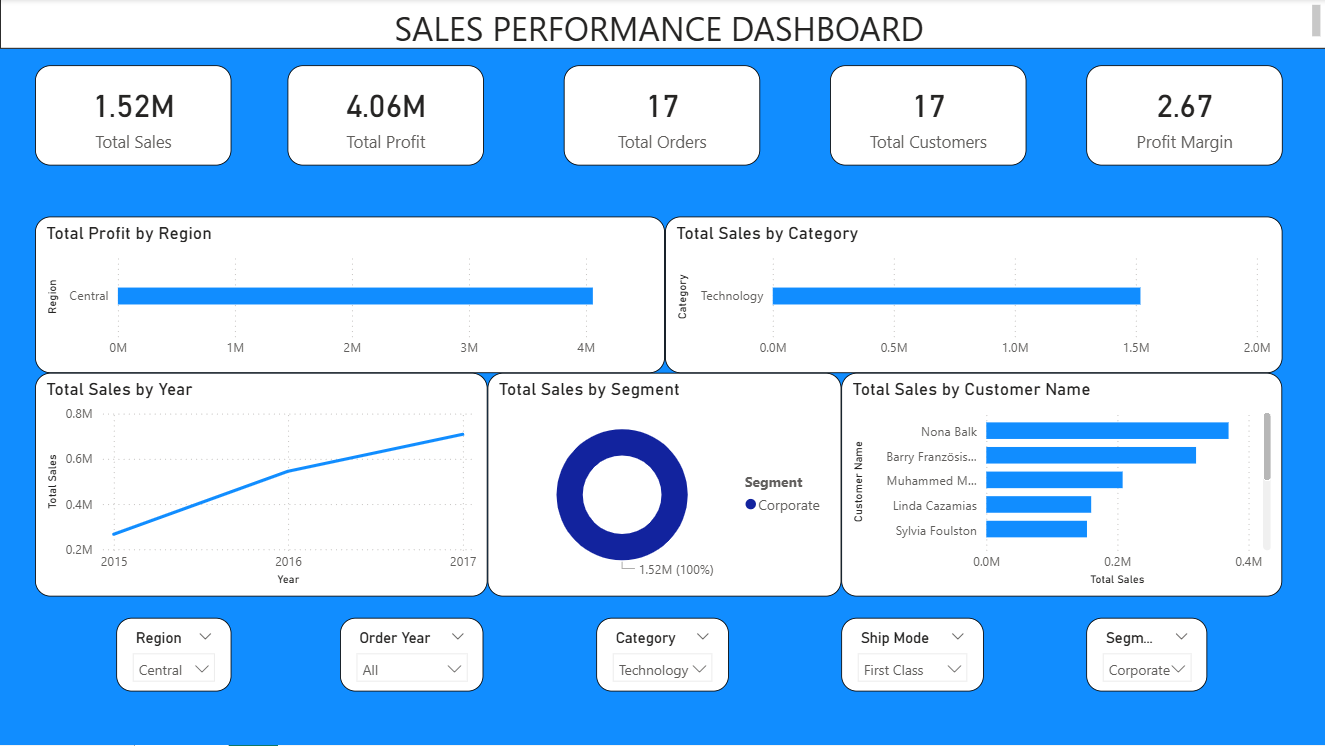

The dashboard page shown, as its layout file describes it:
{"tool":"powerbi","page":{"name":"Page 1","canvas":[1280,720],"ordinal":0},"visuals":[{"type":"textbox","box":[0,0,1280.3,48],"z":0},{"type":"card","fields":{"Values":["superstore_clean.Total Sales"]},"box":[33.8,63.9,189.4,96.5],"z":1000},{"type":"donutChart","fields":{"Category":["superstore_clean.Segment"],"Y":["superstore_clean.Total Sales"]},"box":[470.5,360.7,341.4,216],"z":2000},{"type":"card","fields":{"Values":["superstore_clean.Total Profit"]},"box":[277.5,63.9,189.4,96.5],"z":3000},{"type":"card","fields":{"Values":["superstore_clean.Total Orders"]},"box":[544.1,63.9,189.4,96.5],"z":4000},{"type":"card","fields":{"Values":["superstore_clean.Total Customers"]},"box":[801.1,63.9,189.4,96.5],"z":5000},{"type":"card","fields":{"Values":["superstore_clean.Profit Margin"]},"box":[1048.4,63.9,189.4,96.5],"z":6000},{"type":"clusteredBarChart","fields":{"Category":["superstore_clean.Region"],"Y":["superstore_clean.Total Profit"]},"box":[33.8,209.9,608,150.8],"z":7000},{"type":"clusteredBarChart","fields":{"Category":["superstore_clean.Category"],"Y":["superstore_clean.Total Sales"]},"box":[641.8,209.9,596,150.8],"z":8000},{"type":"barChart","fields":{"Category":["superstore_clean.Customer Name"],"Y":["superstore_clean.Total Sales"]},"box":[811.9,360.7,425.9,216],"z":9000},{"type":"lineChart","fields":{"Category":["superstore_clean.Order Date.Variation.Date Hierarchy.Year","superstore_clean.Order Date.Variation.Date Hierarchy.Quarter","superstore_clean.Order Date.Variation.Date Hierarchy.Month","superstore_clean.Order Date.Variation.Date Hierarchy.Day"],"Y":["superstore_clean.Total Sales"]},"box":[33.8,360.7,436.7,216],"z":10000},{"type":"slicer","fields":{"Values":["superstore_clean.Order Year"]},"box":[328.2,597.2,138.7,71.2],"z":11000},{"type":"slicer","fields":{"Values":["superstore_clean.Region"]},"box":[112.2,597.2,111,71.2],"z":12000},{"type":"slicer","fields":{"Values":["superstore_clean.Category"]},"box":[575.5,597.2,127.9,71.2],"z":13000},{"type":"slicer","fields":{"Values":["superstore_clean.Segment"]},"box":[1048.4,597.2,117,71.2],"z":14000},{"type":"slicer","fields":{"Values":["superstore_clean.Ship Mode"]},"box":[811.9,597.2,137.5,71.2],"z":15000}]}

Visuals, with their boxes in screenshot pixels (x1, y1, x2, y2), scaled from the page's 1280x720 canvas onto the 1325x746 screenshot:
textbox: l=0, t=0, r=1324, b=50
card - superstore_clean.Total Sales: l=35, t=66, r=231, b=166
donutChart - superstore_clean.Segment x superstore_clean.Total Sales: l=487, t=374, r=840, b=598
card - superstore_clean.Total Profit: l=287, t=66, r=483, b=166
card - superstore_clean.Total Orders: l=563, t=66, r=759, b=166
card - superstore_clean.Total Customers: l=829, t=66, r=1025, b=166
card - superstore_clean.Profit Margin: l=1085, t=66, r=1281, b=166
clusteredBarChart - superstore_clean.Region x superstore_clean.Total Profit: l=35, t=217, r=664, b=374
clusteredBarChart - superstore_clean.Category x superstore_clean.Total Sales: l=664, t=217, r=1281, b=374
barChart - superstore_clean.Customer Name x superstore_clean.Total Sales: l=840, t=374, r=1281, b=598
lineChart - superstore_clean.Order Date.Variation.Date Hierarchy.Year x superstore_clean.Order Date.Variation.Date Hierarchy.Quarter: l=35, t=374, r=487, b=598
slicer - superstore_clean.Order Year: l=340, t=619, r=483, b=693
slicer - superstore_clean.Region: l=116, t=619, r=231, b=693
slicer - superstore_clean.Category: l=596, t=619, r=728, b=693
slicer - superstore_clean.Segment: l=1085, t=619, r=1206, b=693
slicer - superstore_clean.Ship Mode: l=840, t=619, r=983, b=693
